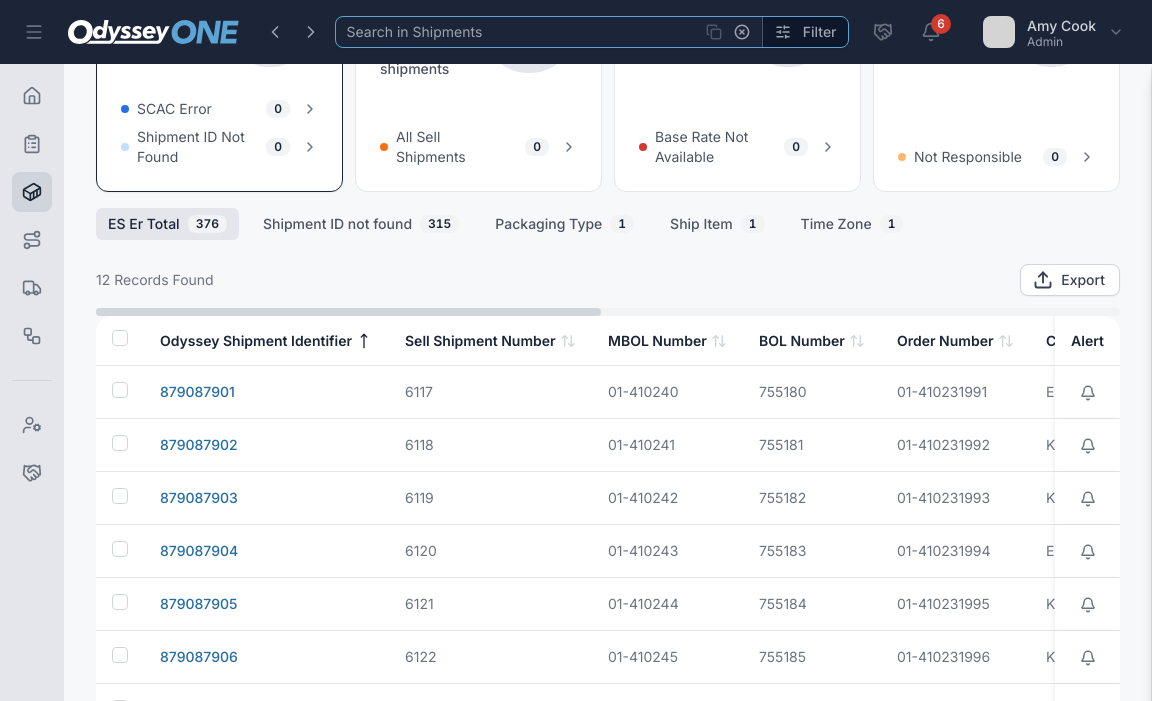
ExecutedShipmentDetailsRoute — sheet policy (S159) › opens as a sheet: the PGI/PGR list stays mounted underneath
(page scrolled)
Click the button "879087901" at (197, 392), box top-left (160, 382), bottom-right (235, 402)
(page scrolled)
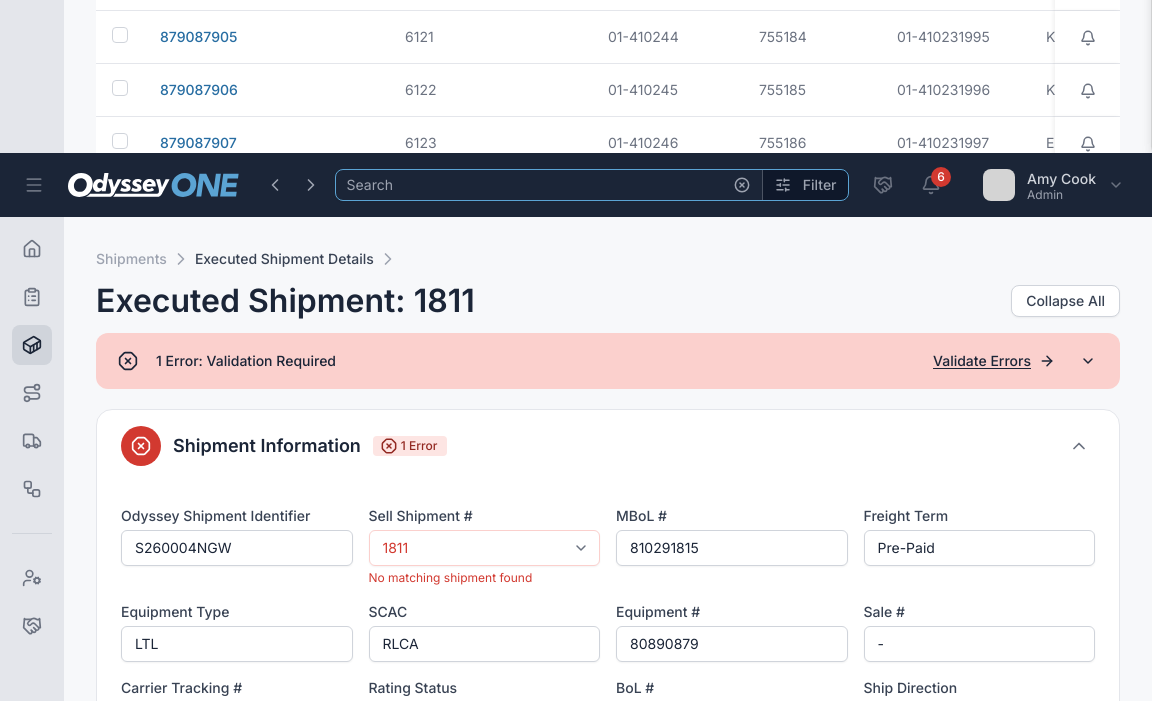
Expected: the heading "Executed Shipment: 1811" is shown, top-left (96, 285), bottom-right (475, 317)
Expected: the text "1 Error: Validation Required" is shown, top-left (156, 352), bottom-right (336, 369)
